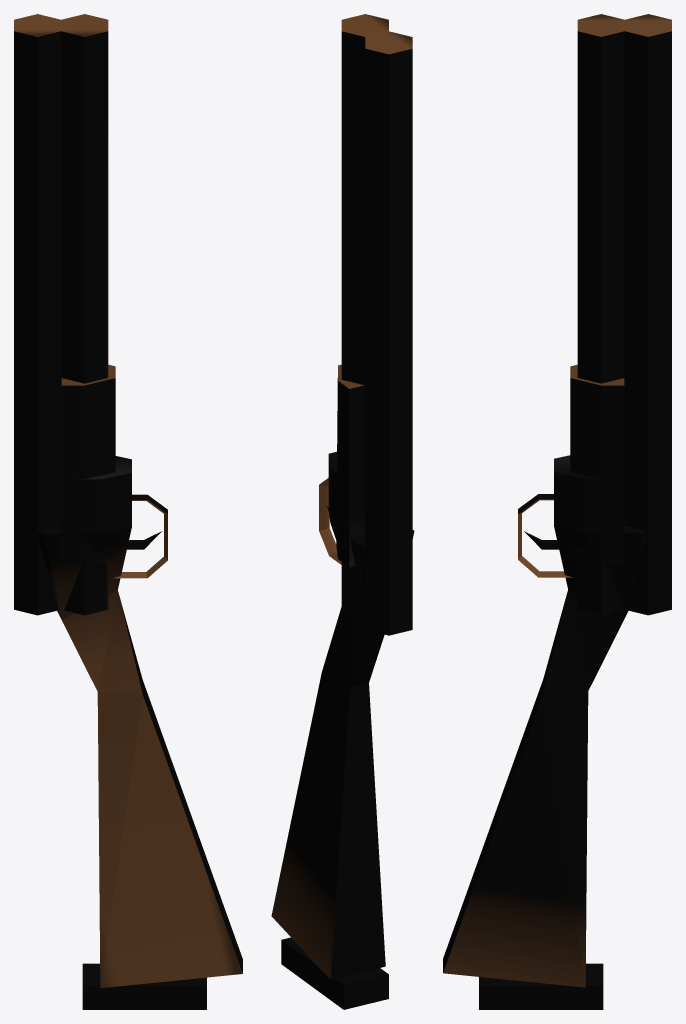
The model's file is HenryBigBoy__RecoilPad_Rubber.fbx.
The picture shows the model from 3 angles, left to right: view 1: azimuth 90°, elevation 25°; view 2: azimuth 210°, elevation 25°; view 3: azimuth 270°, elevation 25°; orthographic projection.
Visible parts, largest first — view 1: asset_HenryBigBoy.001; view 2: asset_HenryBigBoy.001; view 3: asset_HenryBigBoy.001.
Part boxes in pixels (left/top/right/bottom): asset_HenryBigBoy.001: left=14, top=14, right=242, bottom=1009; asset_HenryBigBoy.001: left=271, top=14, right=414, bottom=1009; asset_HenryBigBoy.001: left=443, top=14, right=671, bottom=1009.
Bounding box in the file's own units: 0.0356 × 0.597 × 0.1272.
